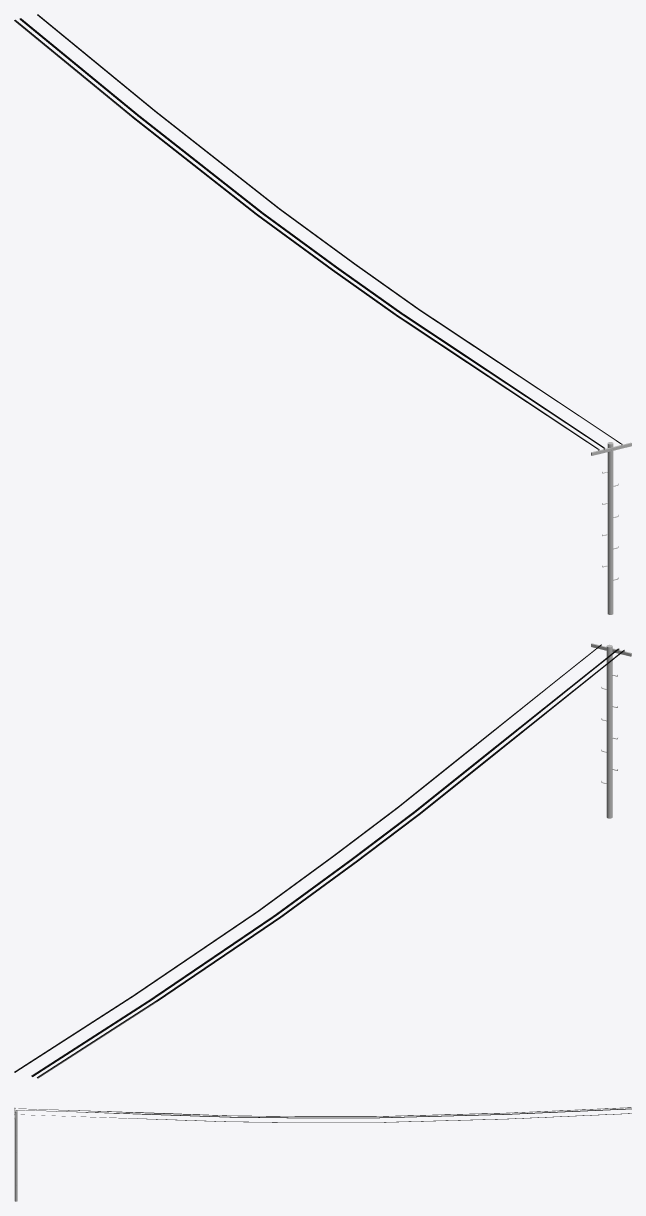
File: CablesDeLaLuz.obj
3 renders of one model, top to bottom at view 1: azimuth 30°, elevation 25°; view 2: azimuth 150°, elevation 25°; view 3: azimuth 270°, elevation 25°, orthographic. The views are drawn at different scales.
Parts seen in each view (by area): view 1: CablesDeLaLuz; view 2: CablesDeLaLuz; view 3: CablesDeLaLuz.
Part boxes in pixels (x1,y1,x2,y2): CablesDeLaLuz: [14, 14, 631, 614]; CablesDeLaLuz: [14, 643, 631, 1078]; CablesDeLaLuz: [14, 1107, 631, 1201].
Bounding box in the file's own units: 3.94 × 16.11 × 99.86.
